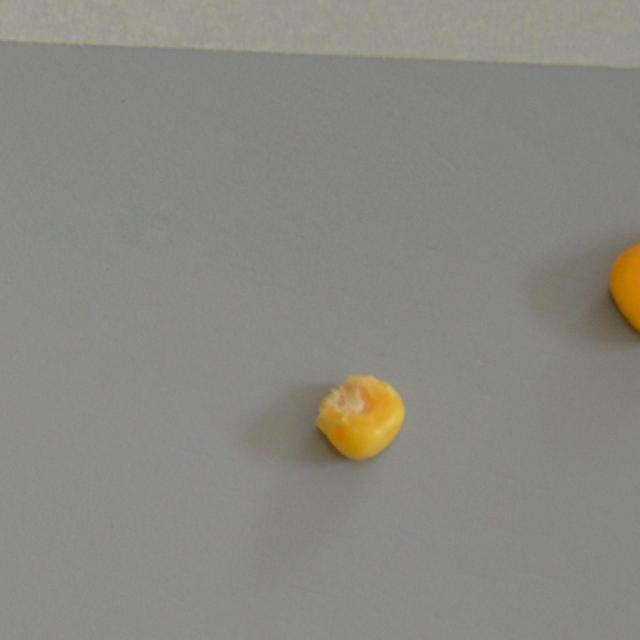entero: (605, 220, 640, 344)
pelicula: (314, 371, 406, 462)
